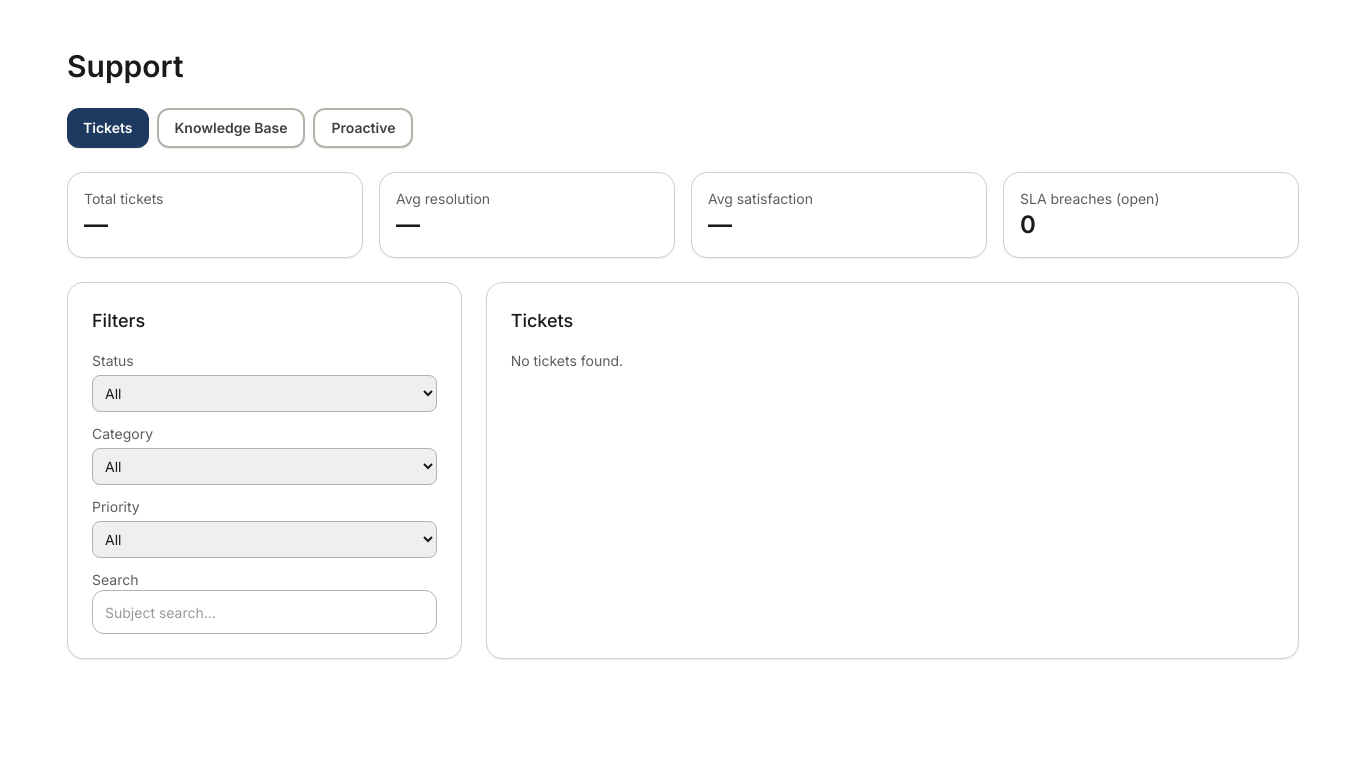
Test: SupportDashboard › lists interventions with a type badge on the Proactive tab
Click the tab "Proactive" at (364, 128), box [314,108,414,148]
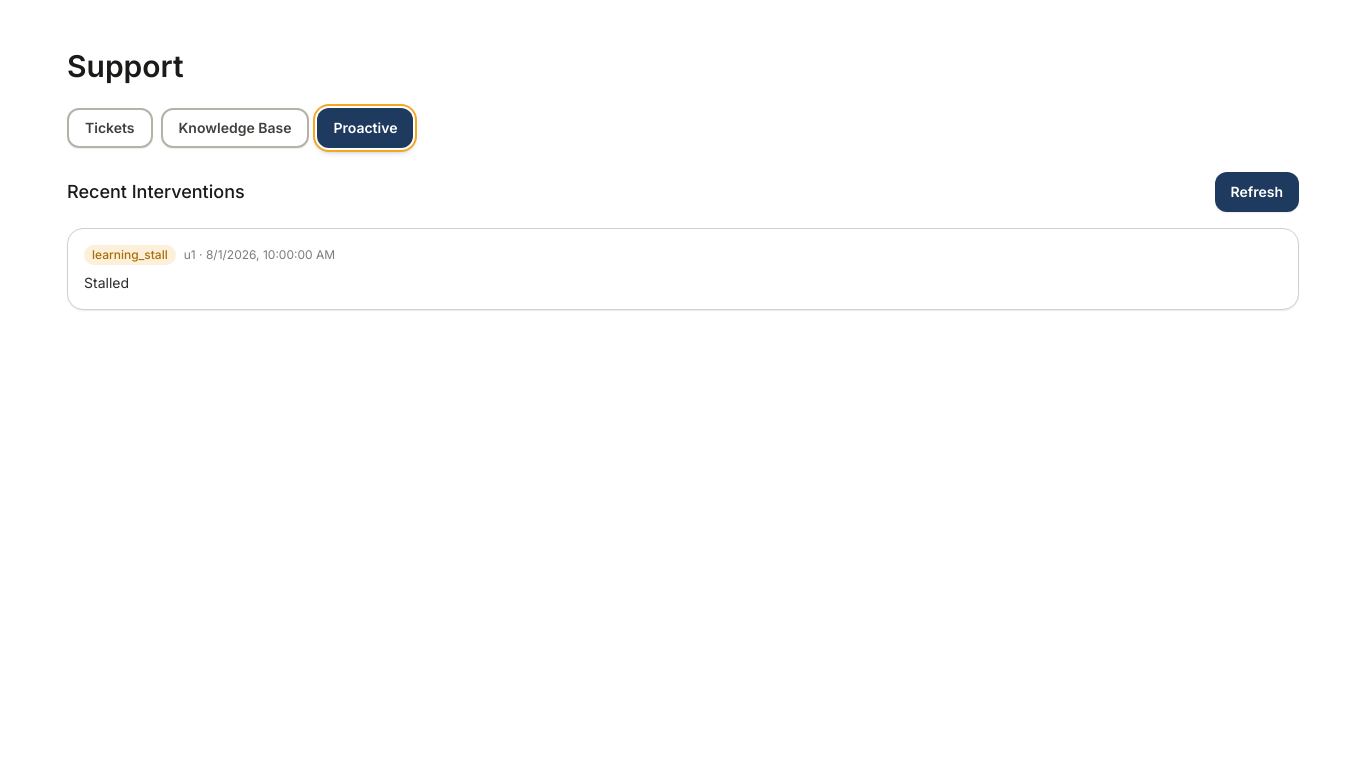
Result: the text "learning_stall" is shown at [84,245,176,265]
Result: the text "Stalled" is shown at [84,274,129,291]
